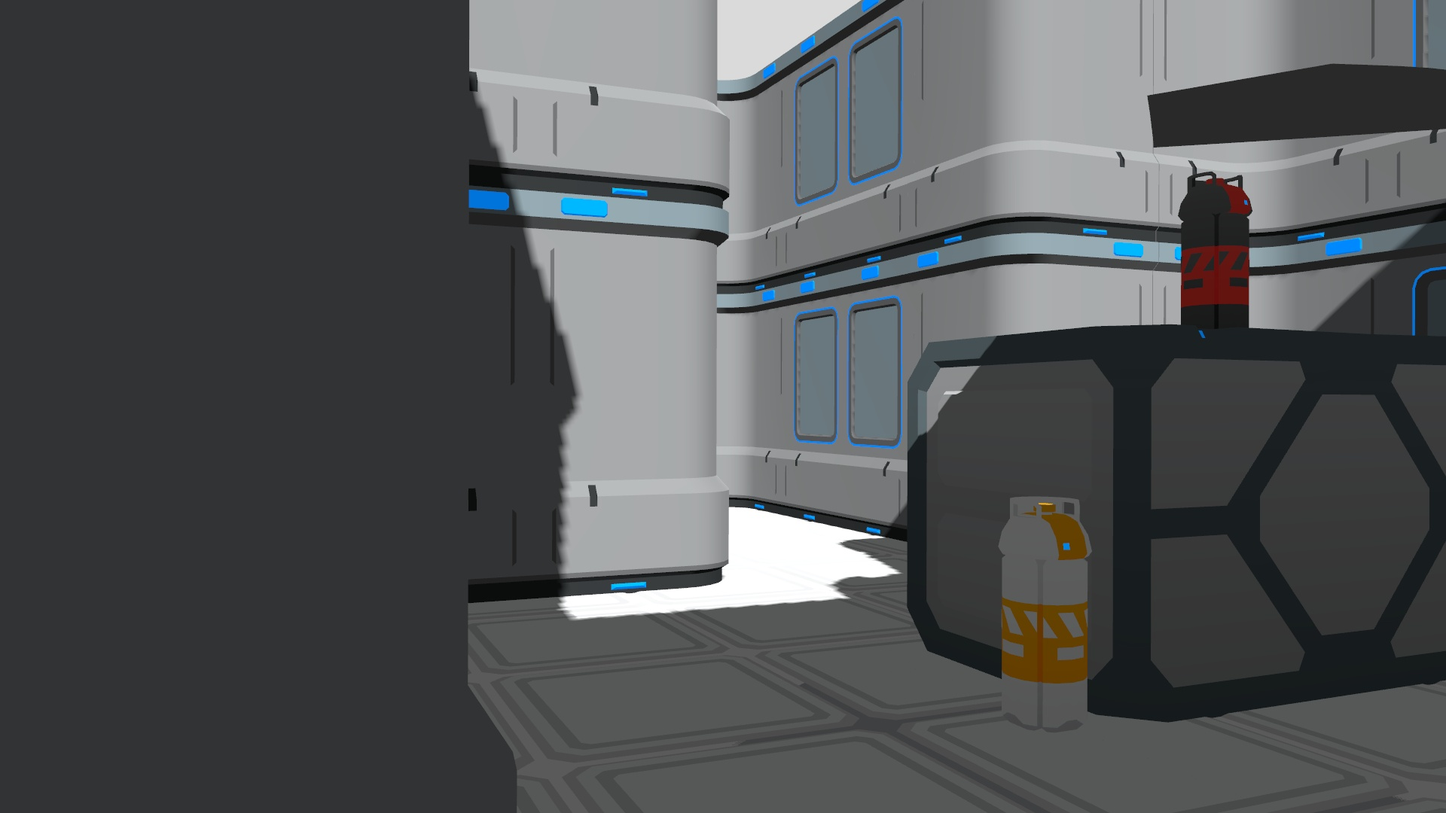red_barrel: (1178, 168, 1256, 333)
yellow_barrel: (996, 488, 1095, 739)
